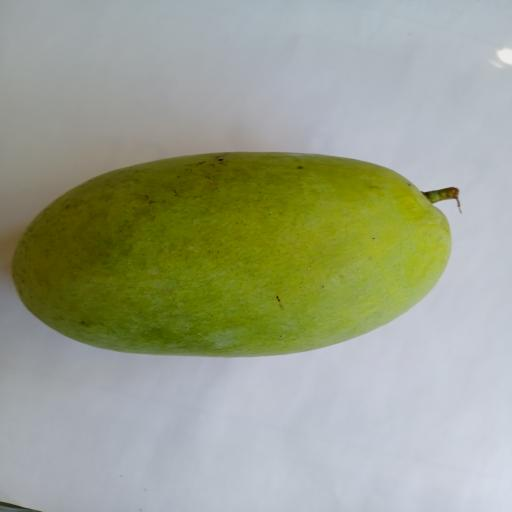mango-unripe: (0, 145, 481, 376)
